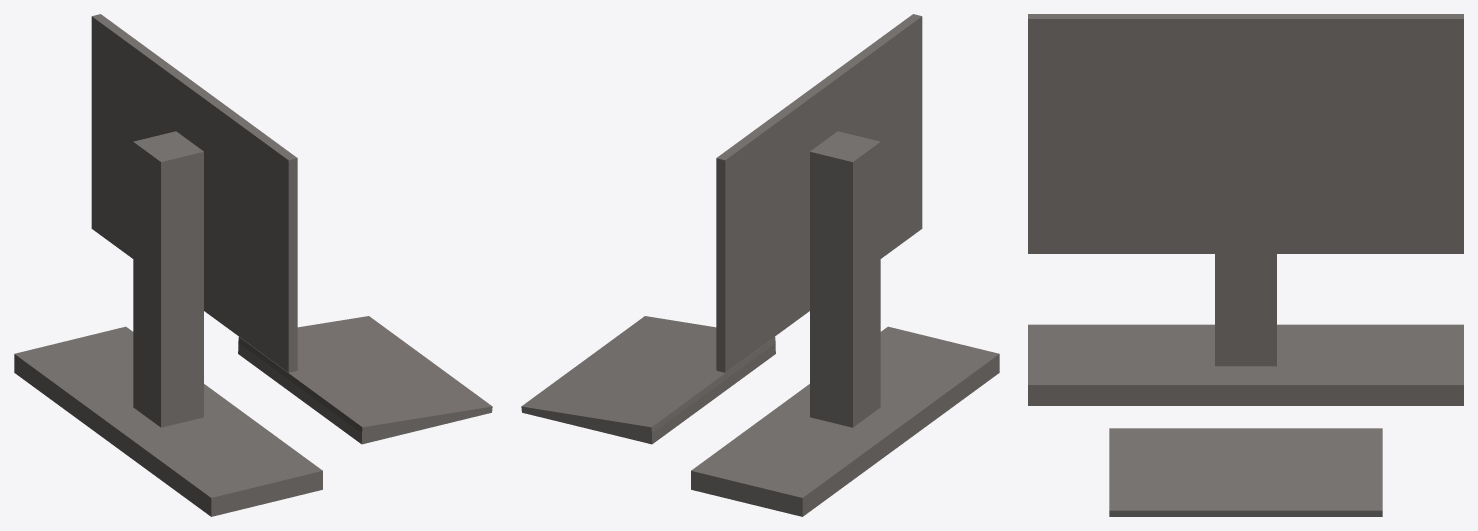
File: Ordinateur.fbx
The picture shows the model from 3 angles, left to right: view 1: azimuth 30°, elevation 25°; view 2: azimuth 150°, elevation 25°; view 3: azimuth 270°, elevation 25°; orthographic projection. The views are drawn at different scales.
Visible parts, largest first — view 1: Ordinateur; view 2: Ordinateur; view 3: Ordinateur.
Part boxes in pixels (box(x1,y1,x2,y2)): Ordinateur: box(14, 14, 492, 516); Ordinateur: box(521, 14, 999, 516); Ordinateur: box(1028, 14, 1463, 516).
Bounding box in the file's own units: 0.6245 × 0.6337 × 0.6701.
